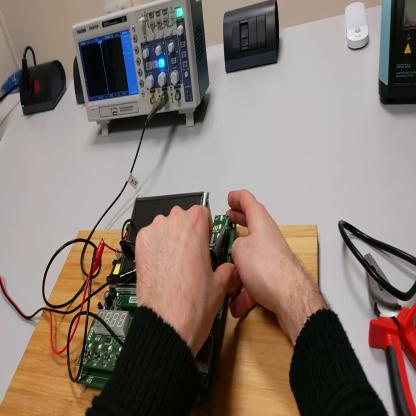hand: (133, 202, 238, 354), (227, 190, 294, 315)
low voltage board: (79, 190, 239, 413)
oscilloscope: (72, 2, 209, 138)
oscilloscope probe tip: (211, 215, 231, 273)
pliers: (366, 251, 416, 415)
socket: (20, 58, 68, 117), (73, 57, 86, 105)
welder station: (381, 2, 416, 107)
working area: (1, 222, 320, 413)
